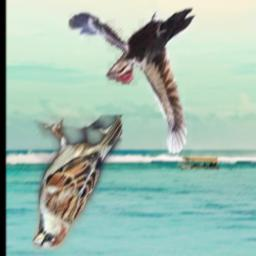Sparrow: (34, 116, 123, 251)
Woodpecker: (65, 10, 195, 155)
